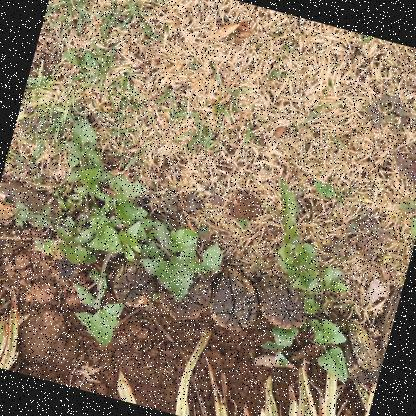Weeds: (0, 102, 249, 373), (231, 175, 393, 384)
